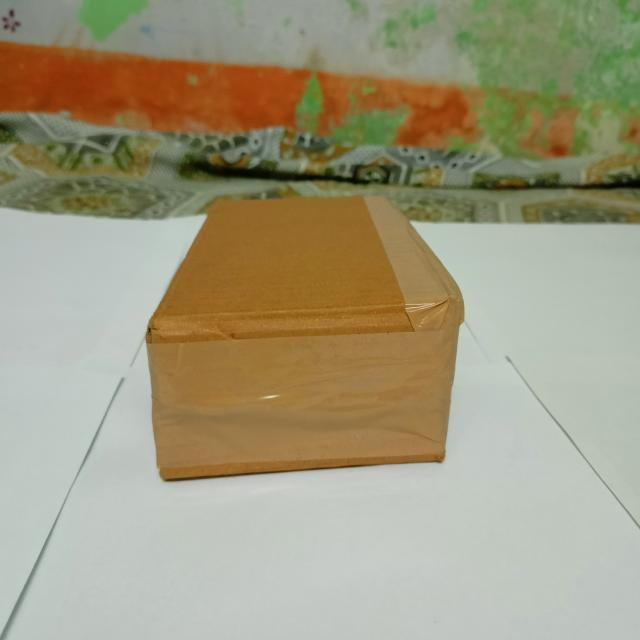box: (145, 198, 467, 485)
